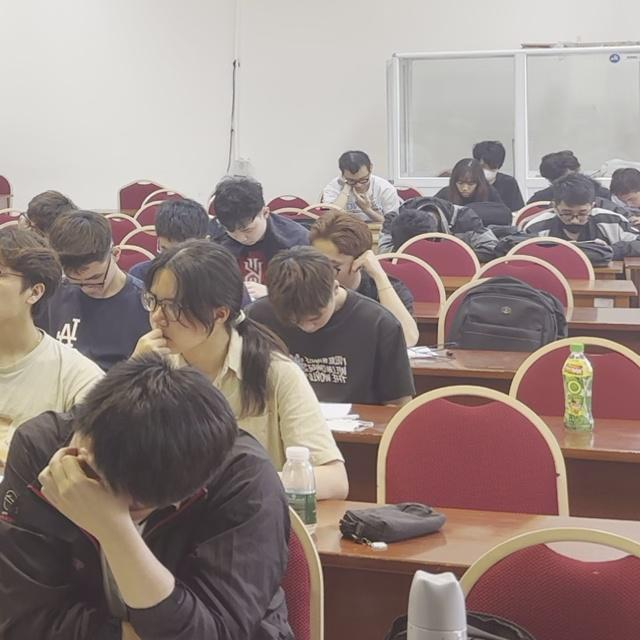Looking away: (69, 270, 107, 295), (228, 221, 264, 243), (298, 313, 328, 333), (345, 174, 370, 191), (620, 194, 640, 208), (461, 182, 474, 197)
Looking forward: (147, 292, 192, 350)
